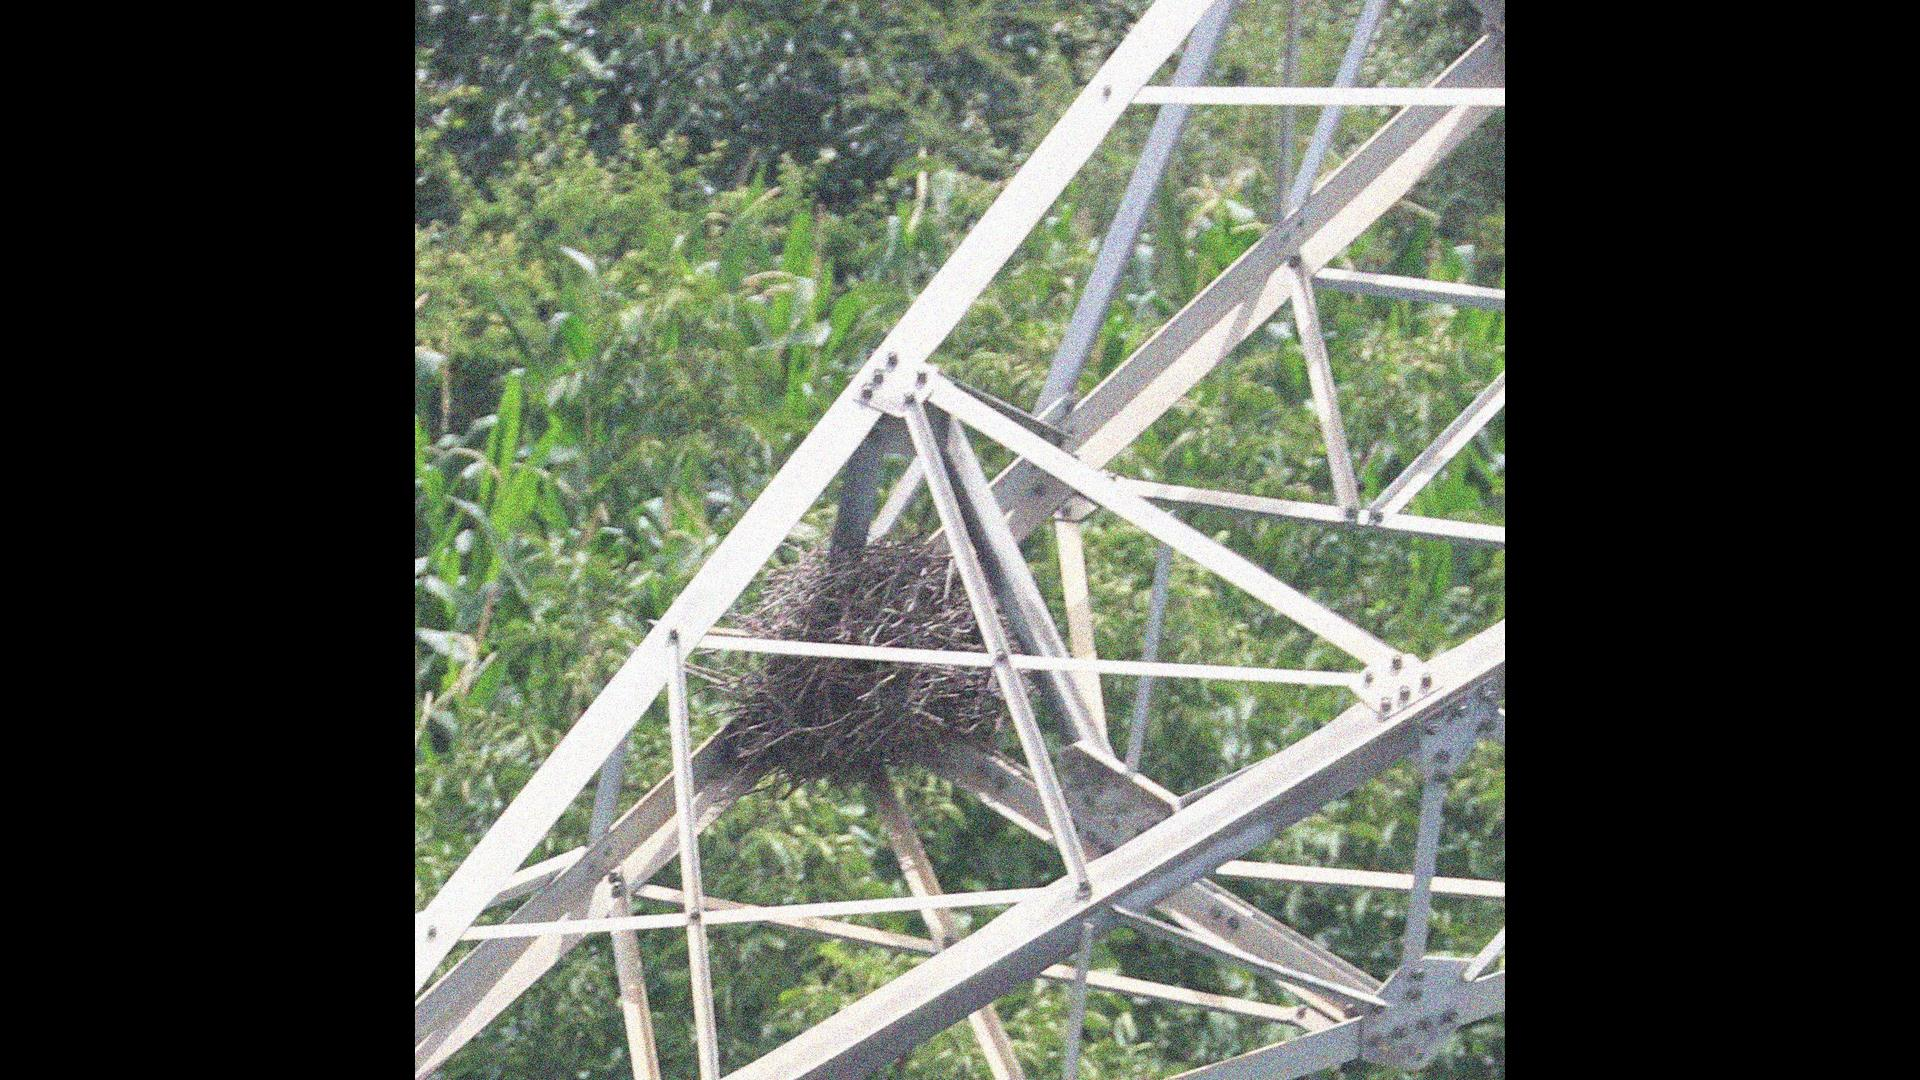niaowo: (709, 527, 1010, 793)
